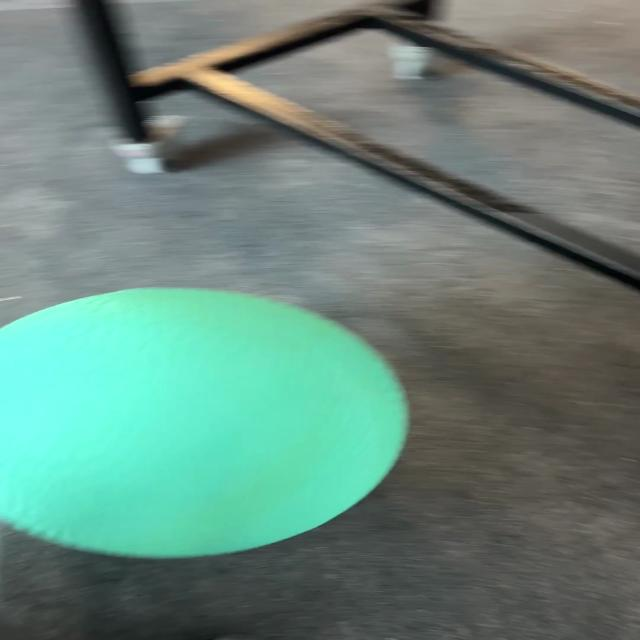Algae: (1, 286, 410, 559)
